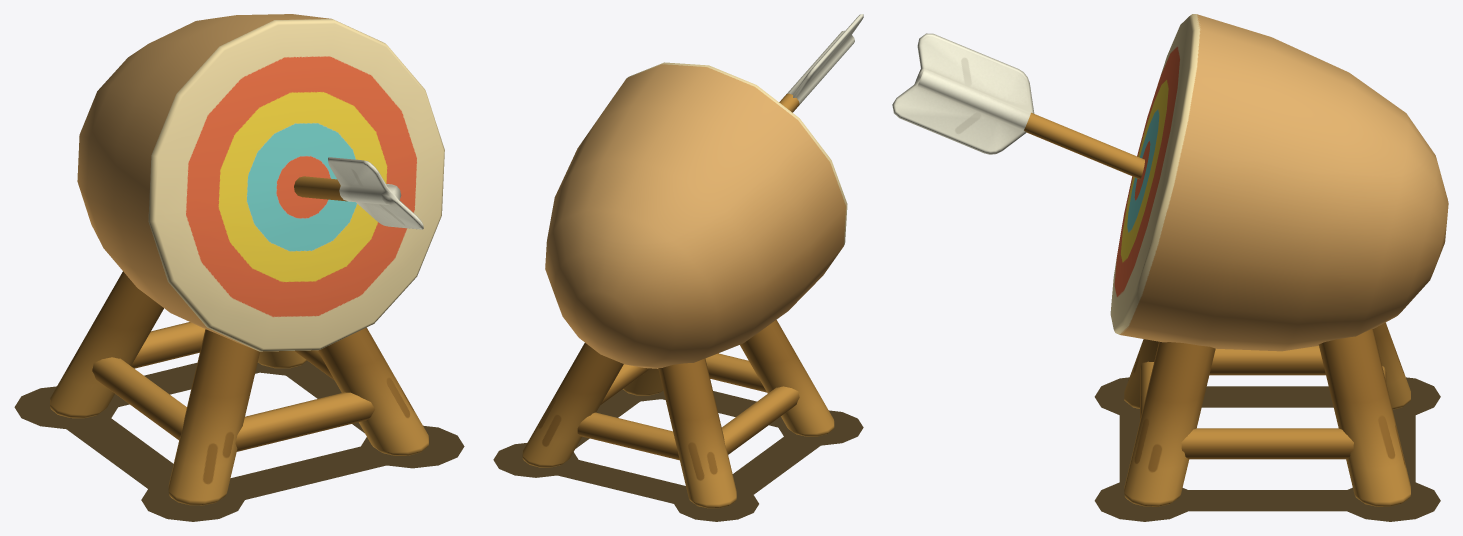
The model's file is Aimboard.fbx.
3 renders of one model, left to right at view 1: azimuth 30°, elevation 25°; view 2: azimuth 150°, elevation 25°; view 3: azimuth 270°, elevation 25°, orthographic. The views are drawn at different scales.
Parts seen in each view (by area): view 1: polySurface12, polySurface9, polySurface1, polySurface5; view 2: polySurface12, polySurface9, polySurface1, polySurface5; view 3: polySurface12, polySurface9, polySurface1, polySurface5.
Boxes of the visible parts, x1=… form: polySurface12: x1=77, y1=14, x2=444, y2=351; polySurface9: x1=50, y1=271, x2=428, y2=505; polySurface1: x1=14, y1=360, x2=464, y2=521; polySurface5: x1=294, y1=157, x2=423, y2=229; polySurface12: x1=545, y1=62, x2=847, y2=368; polySurface9: x1=522, y1=320, x2=834, y2=508; polySurface1: x1=493, y1=389, x2=863, y2=521; polySurface5: x1=779, y1=14, x2=863, y2=112; polySurface12: x1=1110, y1=14, x2=1448, y2=351; polySurface9: x1=1124, y1=322, x2=1410, y2=506; polySurface1: x1=1094, y1=377, x2=1440, y2=521; polySurface5: x1=892, y1=33, x2=1144, y2=179.
Size of the model in its own units: 180 by 241 by 290.
